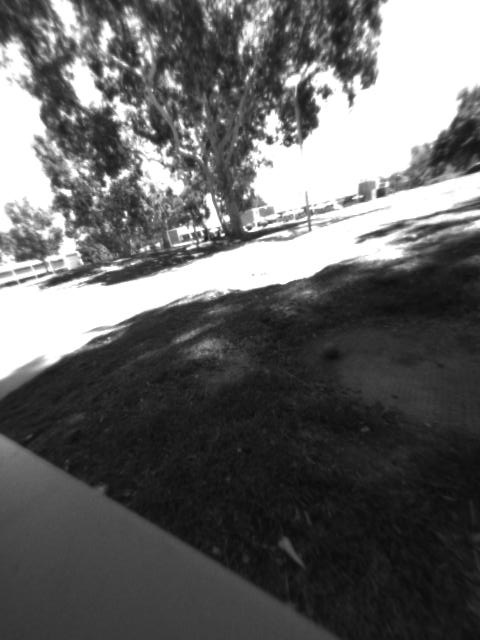dogtoy: (314, 332, 350, 366)
